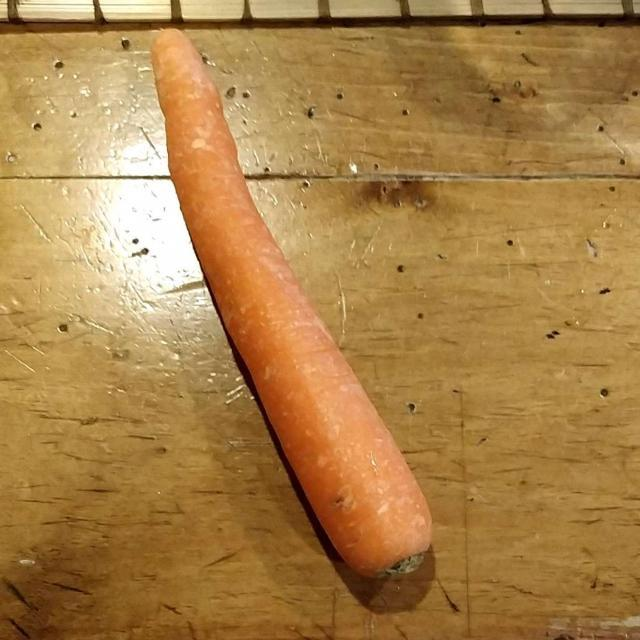carrot: (158, 41, 417, 578)
